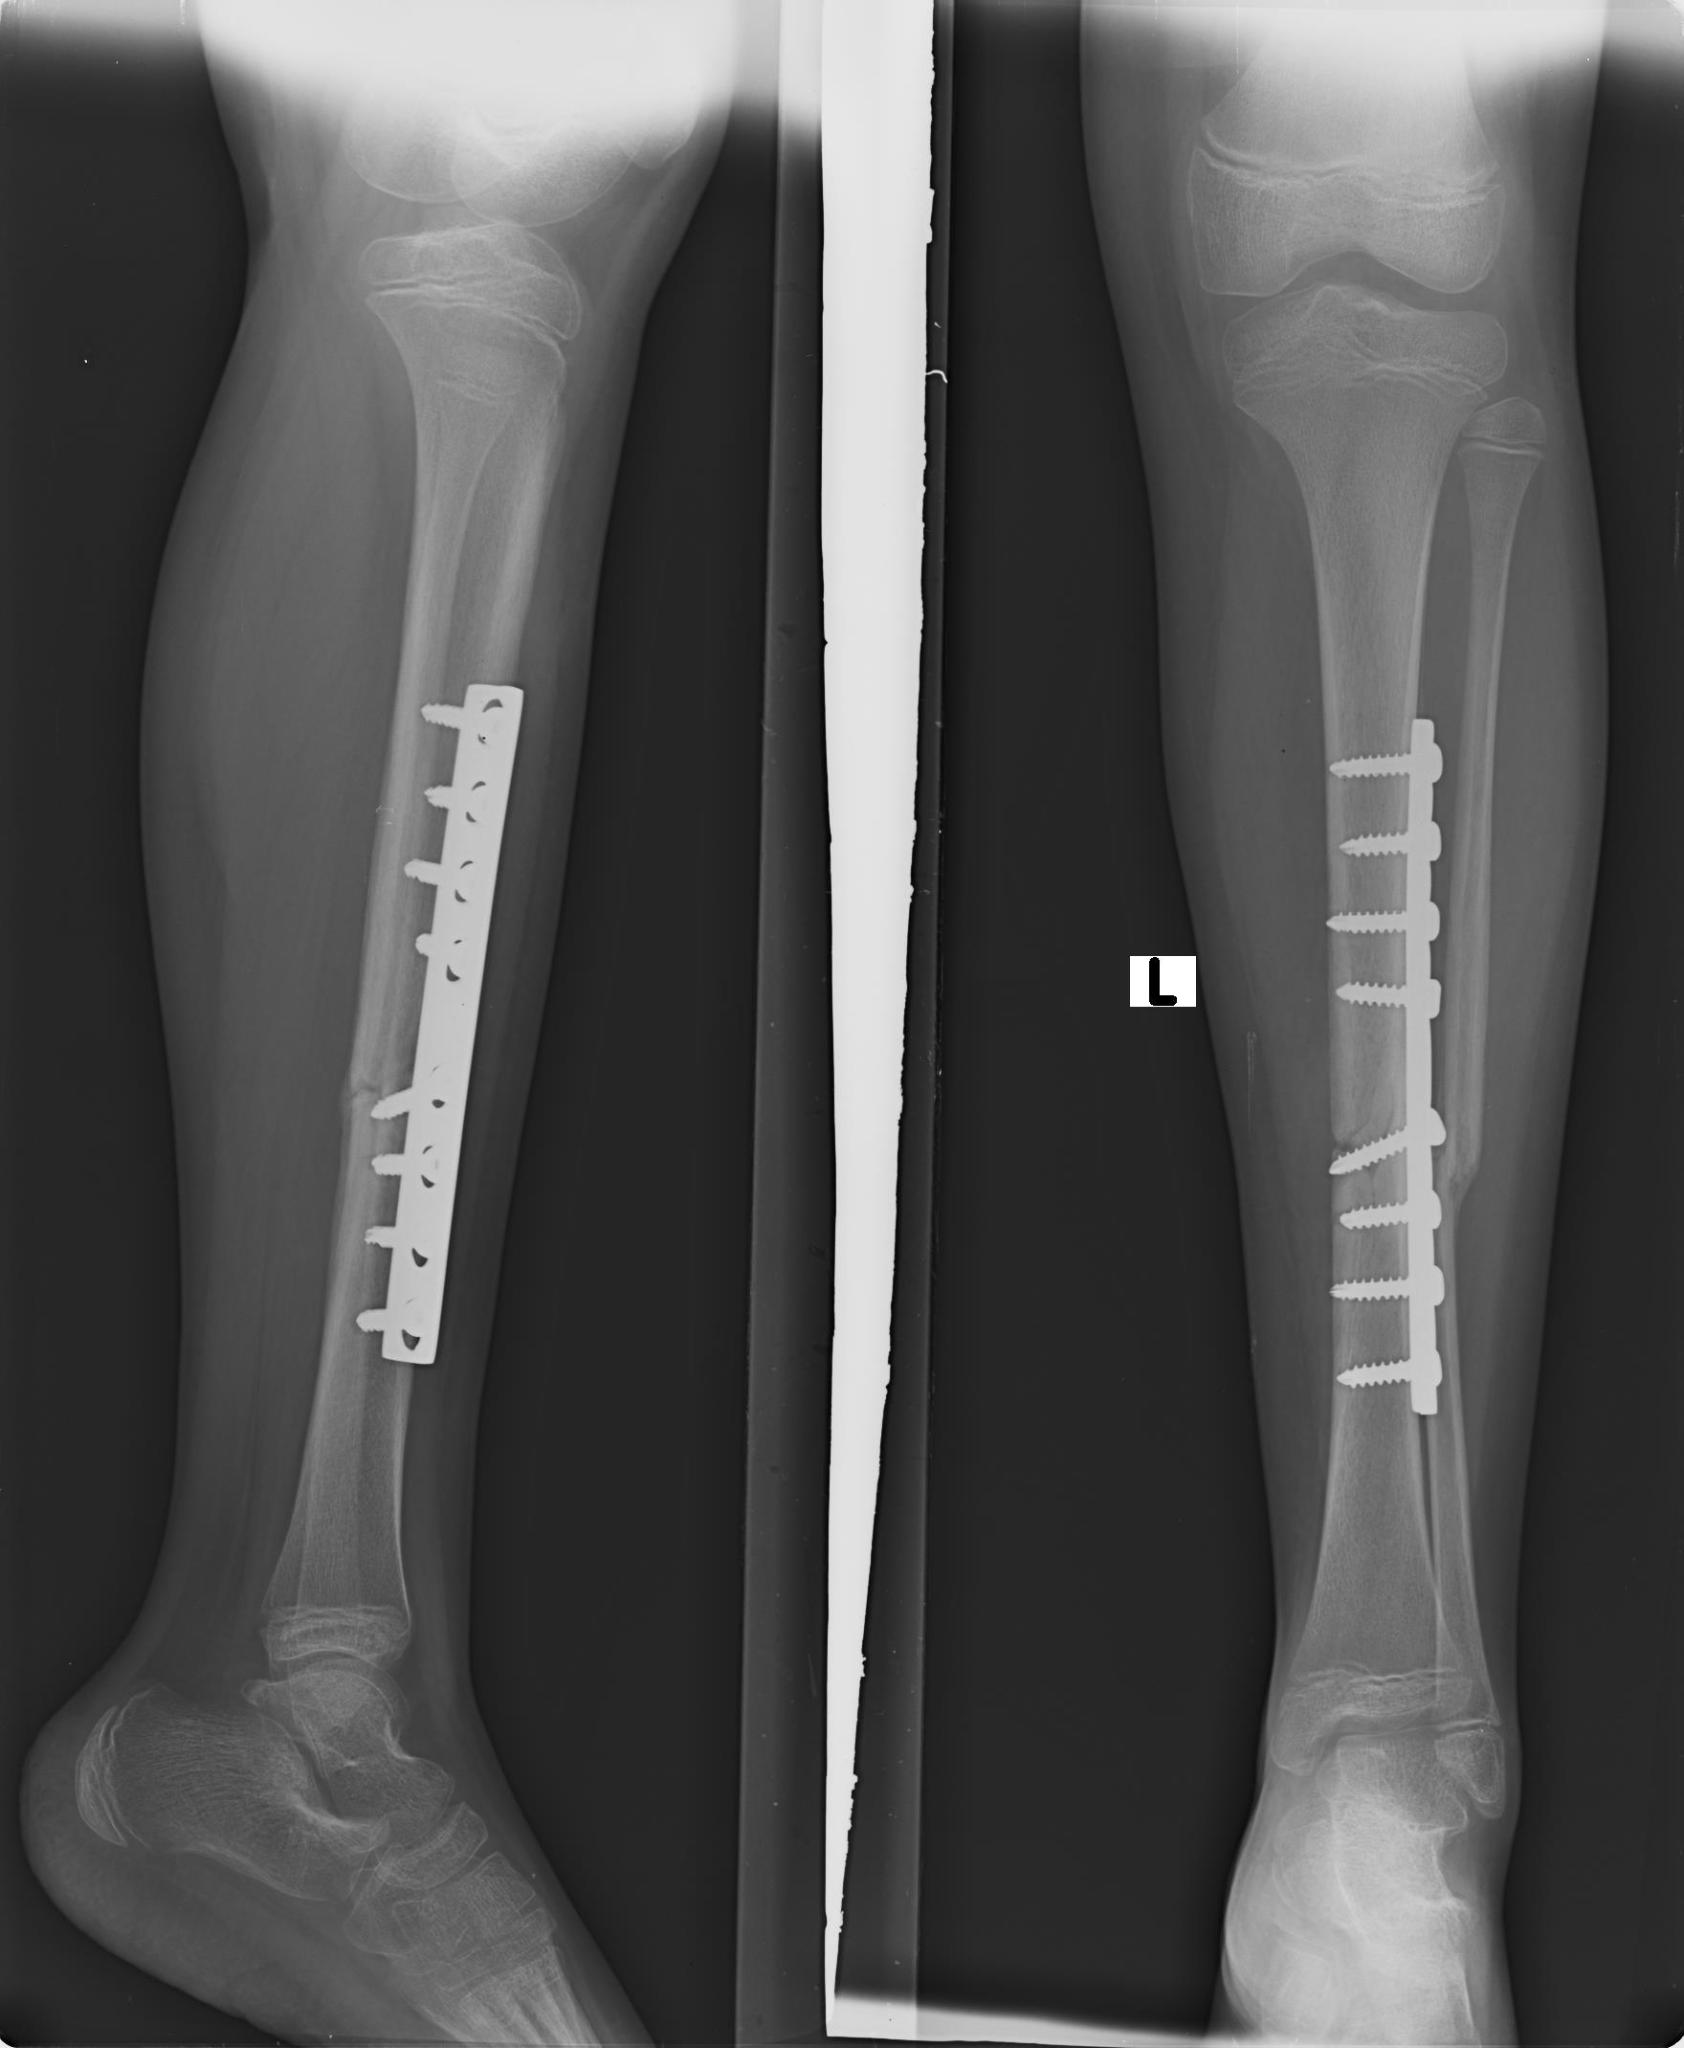fractured: (1318, 1101, 1407, 1198), (337, 1053, 412, 1128)
